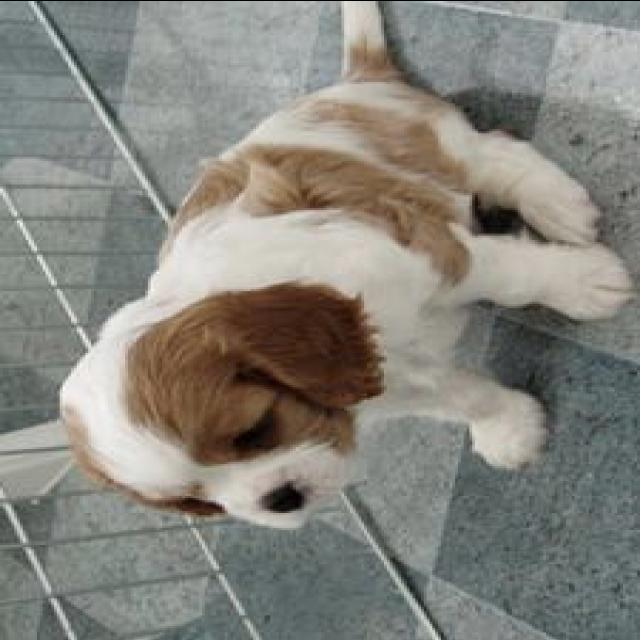blenheim_spaniel: (54, 2, 632, 527)
